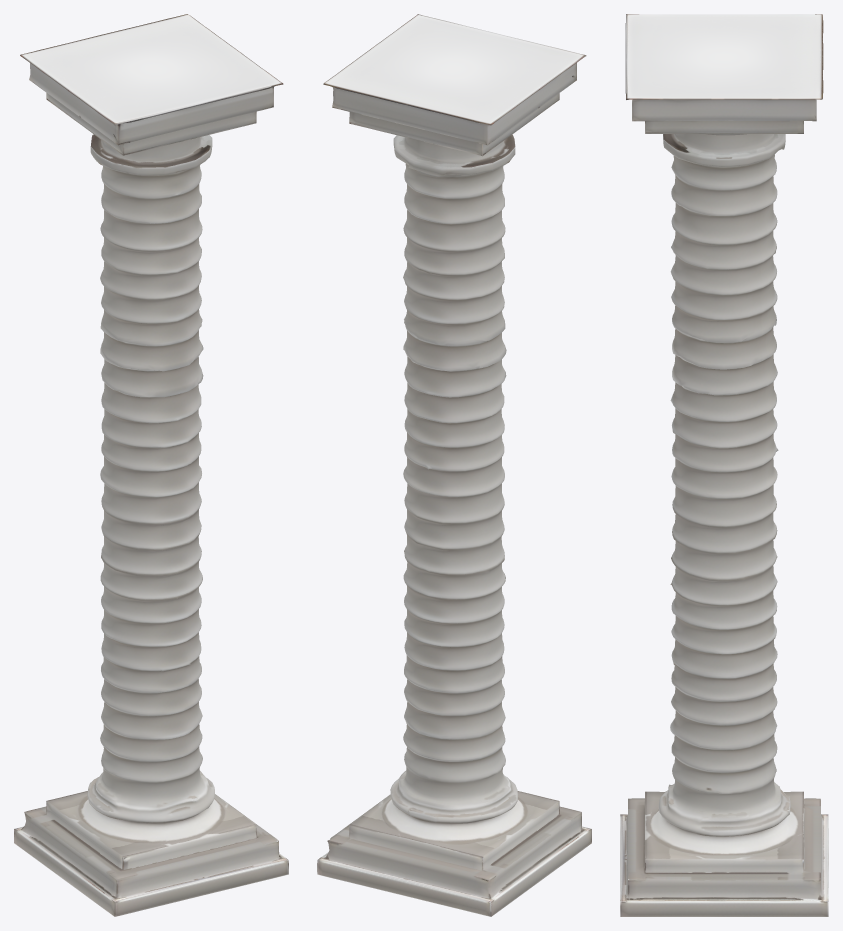
File: base_basic_shaded.glb
3 renders of one model, left to right at view 1: azimuth 30°, elevation 25°; view 2: azimuth 150°, elevation 25°; view 3: azimuth 270°, elevation 25°, orthographic. The views are drawn at different scales.
Visible parts, largest first — view 1: model; view 2: model; view 3: model.
Boxes of the visible parts, x1,y1,x2,y2 form: model: (14,14,288,916); model: (317,14,591,916); model: (620,14,828,916).
Size of the model in its own units: 0.4595 by 2 by 0.4605.
1 material, 1 textured.
